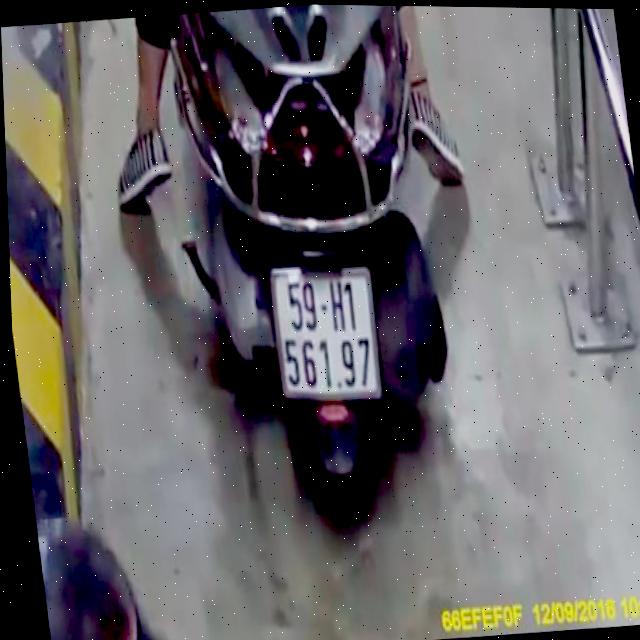motorcycle: (138, 2, 494, 543)
plate: (260, 256, 386, 409)
